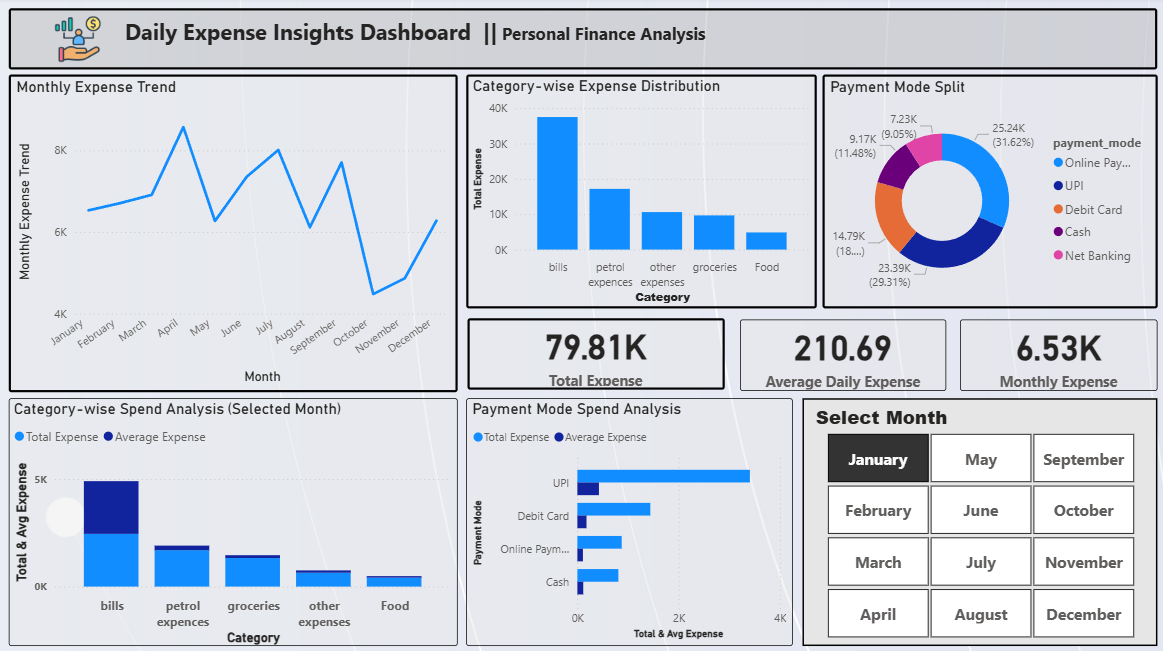

This screenshot's page, from the dashboard's own definition file:
{"tool":"powerbi","page":{"name":"Page 1","canvas":[1280,720],"ordinal":0},"visuals":[{"type":"clusteredColumnChart","title":"Category-wise Expense Distribution ","fields":{"Category":["expenses_300rows_fixed.category"],"Y":["expenses_300rows_fixed.Sum Of Amount"]},"box":[511.8,85.4,385,256.6],"z":0},{"type":"columnChart","title":"Category-wise Spend Analysis (Selected Month)","fields":{"Category":["Daily Expense.Category"],"Y":["expenses_300rows_fixed.Sum Of Amount","expenses_300rows_fixed.Avg Of Amount"]},"box":[9.6,440.5,492.6,271.7],"z":1000},{"type":"donutChart","title":"Payment Mode Split","fields":{"Category":["expenses_300rows_fixed.payment_mode"],"Y":["expenses_300rows_fixed.Sum Of Amount"]},"box":[902.9,85.4,367.8,256.6],"z":2000},{"type":"slicer","fields":{"Values":["expenses_300rows_fixed.date.Variation.Date Hierarchy.Month"]},"box":[881,440.5,389.7,271.7],"z":3000},{"type":"clusteredBarChart","title":"Payment Mode Spend Analysis","fields":{"Category":["expenses_300rows_fixed.payment_mode"],"Y":["expenses_300rows_fixed.Sum Of Amount","expenses_300rows_fixed.Avg Of Amount"]},"box":[511.8,440.5,358.1,271.7],"z":4000},{"type":"textbox","box":[9.6,12.3,1261.1,67],"z":5000},{"type":"card","fields":{"Values":["expenses_300rows_fixed.Avg Of Amount"]},"box":[812.4,354.4,226.4,78.2],"z":6000},{"type":"card","fields":{"Values":["expenses_300rows_fixed.Sum Of Amount"]},"box":[513.2,353,282.7,78.2],"z":7000},{"type":"card","fields":{"Values":["expenses_300rows_fixed.Sum Of Amount"]},"box":[1053.9,354.4,216.8,78.2],"z":8000},{"type":"lineChart","title":"Monthly Expense Trend ","fields":{"Category":["expenses_300rows_fixed.date.Variation.Date Hierarchy.Month"],"Y":["expenses_300rows_fixed.Sum Of Amount"]},"box":[9.6,85.4,492.6,348.5],"z":9000},{"type":"image","box":[53.5,11,64.5,70],"z":10000}]}

Visuals, with their boxes in screenshot pixels (x1, y1, x2, y2), scaled from the page's 1280x720 canvas onto the 1163x651 screenshot:
"Category-wise Expense Distribution " clusteredColumnChart: pyautogui.locateOnScreen(465, 77, 815, 309)
"Category-wise Spend Analysis (Selected Month)" columnChart: pyautogui.locateOnScreen(9, 398, 456, 644)
"Payment Mode Split" donutChart: pyautogui.locateOnScreen(820, 77, 1155, 309)
slicer - expenses_300rows_fixed.date.Variation.Date Hierarchy.Month: pyautogui.locateOnScreen(800, 398, 1155, 644)
"Payment Mode Spend Analysis" clusteredBarChart: pyautogui.locateOnScreen(465, 398, 790, 644)
textbox: pyautogui.locateOnScreen(9, 11, 1155, 72)
card - expenses_300rows_fixed.Avg Of Amount: pyautogui.locateOnScreen(738, 320, 944, 391)
card - expenses_300rows_fixed.Sum Of Amount: pyautogui.locateOnScreen(466, 319, 723, 390)
card - expenses_300rows_fixed.Sum Of Amount: pyautogui.locateOnScreen(958, 320, 1155, 391)
"Monthly Expense Trend " lineChart: pyautogui.locateOnScreen(9, 77, 456, 392)
image: pyautogui.locateOnScreen(49, 10, 107, 73)
